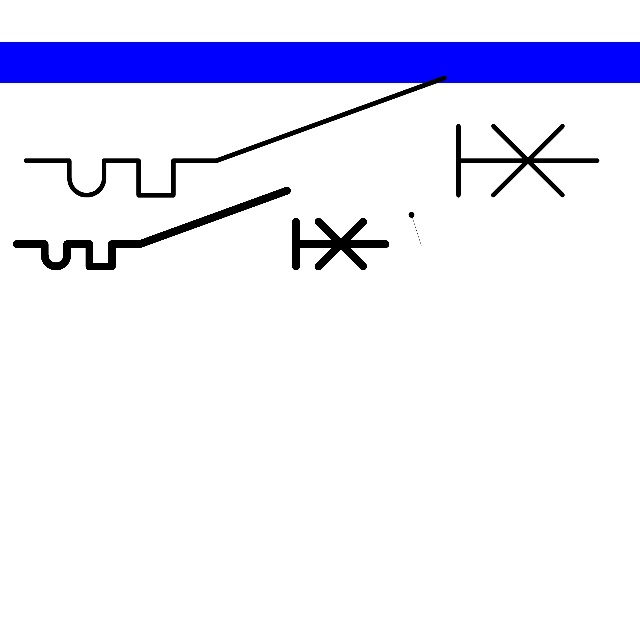interruptor_termomagnetico: (11, 63, 612, 210), (7, 181, 395, 276)
